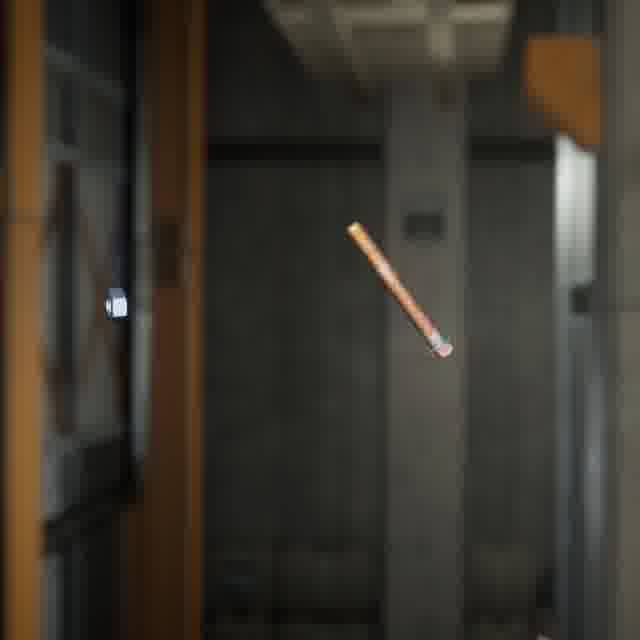bolt: (342, 217, 460, 365)
nut: (100, 283, 131, 327)
